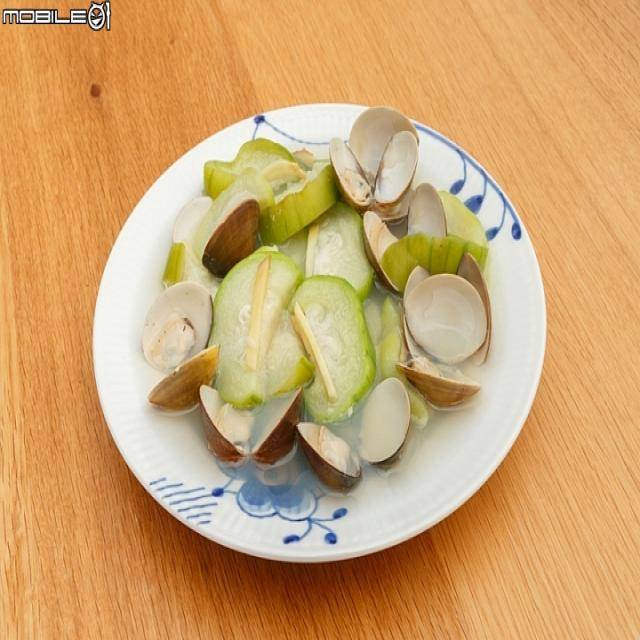Wet: (150, 95, 470, 502)
